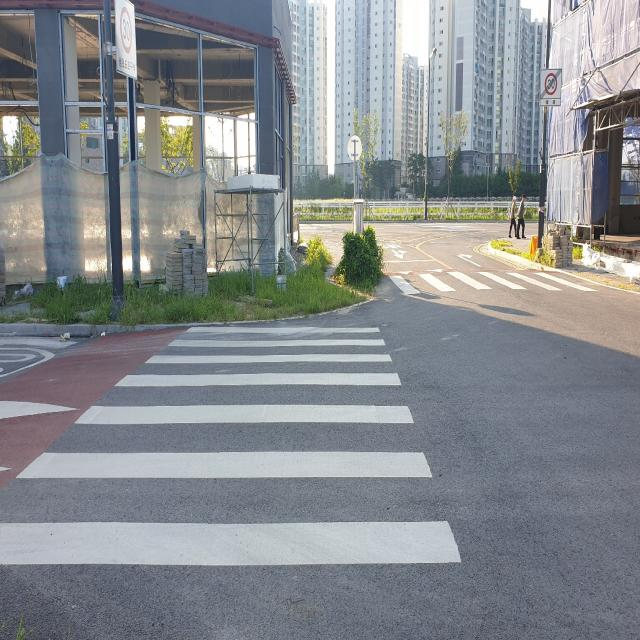횡단보도: (0, 324, 463, 574), (386, 251, 595, 302)
